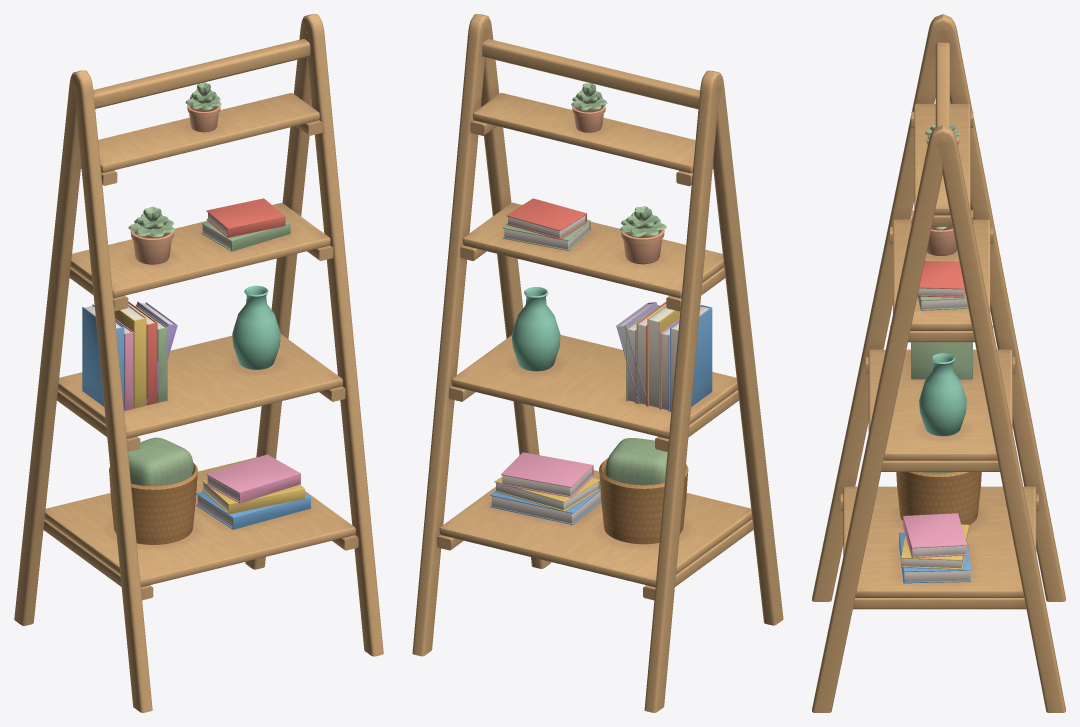
File: ladder-shelf.glb
3 views of the same model, side by side, from view 1: azimuth 30°, elevation 25°; view 2: azimuth 150°, elevation 25°; view 3: azimuth 270°, elevation 25° (orthographic).
Parts seen in each view (by area): view 1: ladder-shelf_body; view 2: ladder-shelf_body; view 3: ladder-shelf_body.
Boxes of the visible parts, bbox=[...] form: ladder-shelf_body: bbox=[14, 14, 383, 712]; ladder-shelf_body: bbox=[412, 14, 783, 712]; ladder-shelf_body: bbox=[812, 14, 1065, 712].
Bounding box in the file's own units: 0.694 × 1.62 × 0.6372.
Materials: 1 (1 with a texture image).
